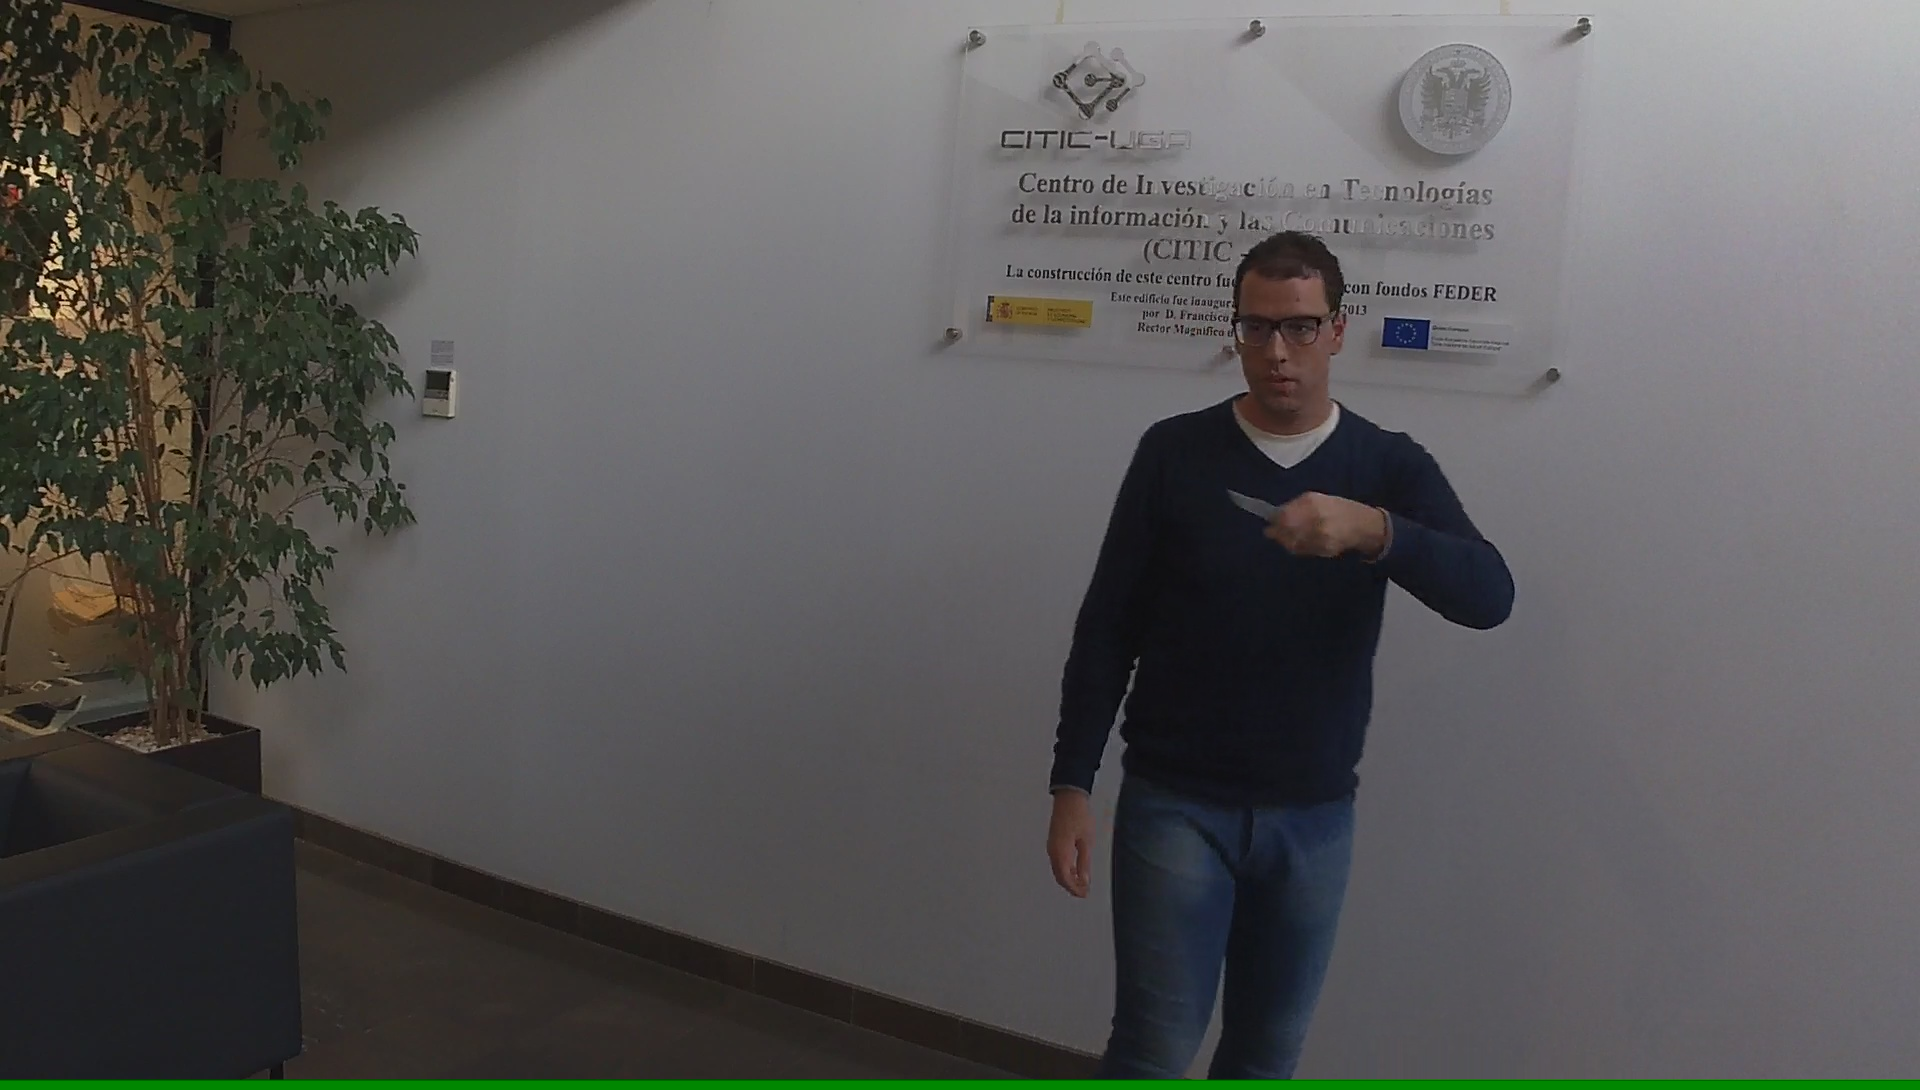knife: (1211, 471, 1309, 554)
